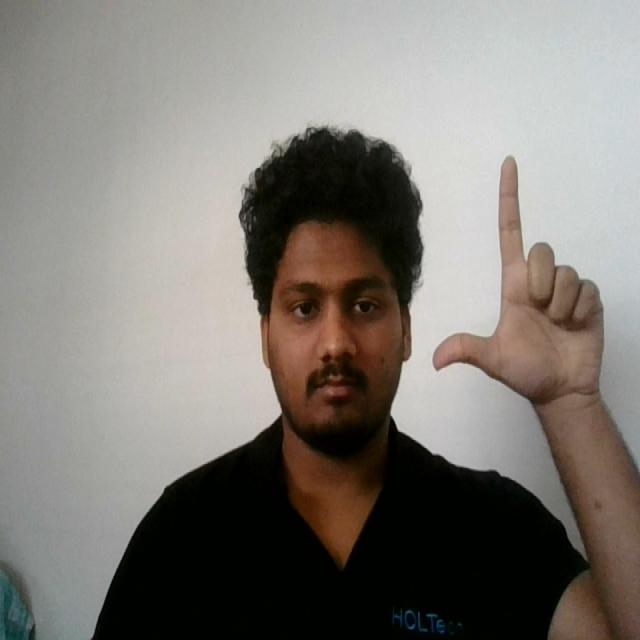IloveYou: (427, 148, 617, 418)
